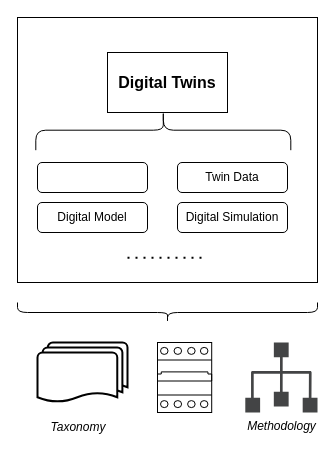
The diagram is 335 pixels wide and 455 high, and some of its shapes have lost their labels. Here are the shapes that lost their labels. From the top down, the centre of each, then its label:
the point at 92,177: Digital Shadow
the point at 184,377: Architecture
